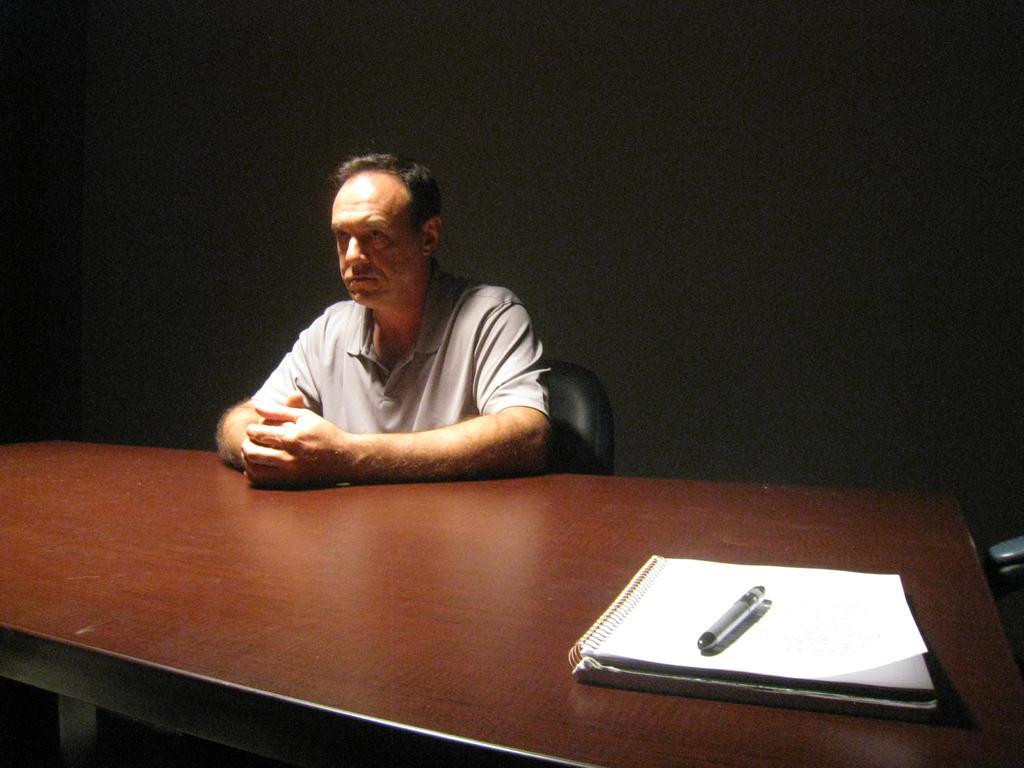pen: (697, 584, 767, 651)
